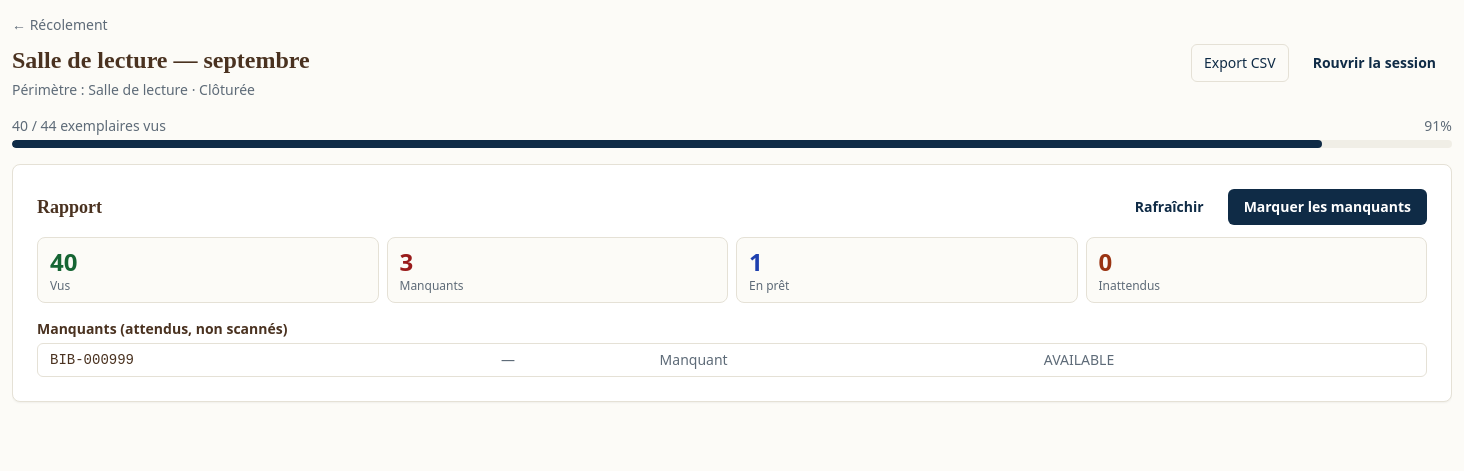
Test: quand on rouvre › ⚠ refus de l’API : c’est SON message qui s’affiche
Expected: the heading "Salle de lecture — septembre" is shown, [12, 44, 310, 76]
Click the button "Rouvrir la session".
click(1374, 63)  # box [1297, 44, 1452, 82]
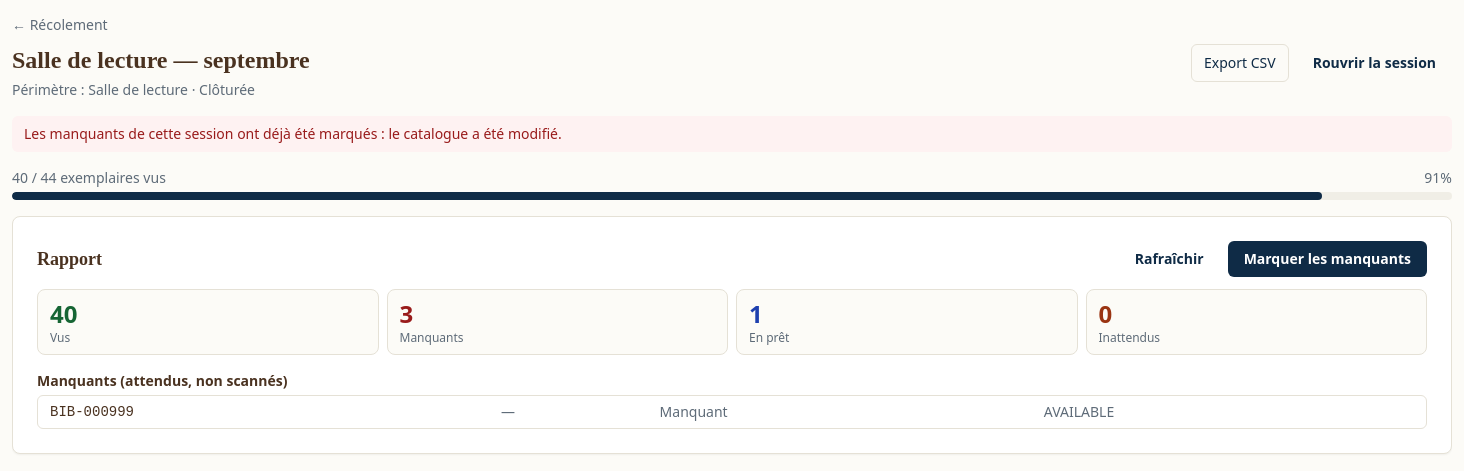
Expected: the text "le catalogue a été modifié" is shown, [24, 124, 562, 143]
